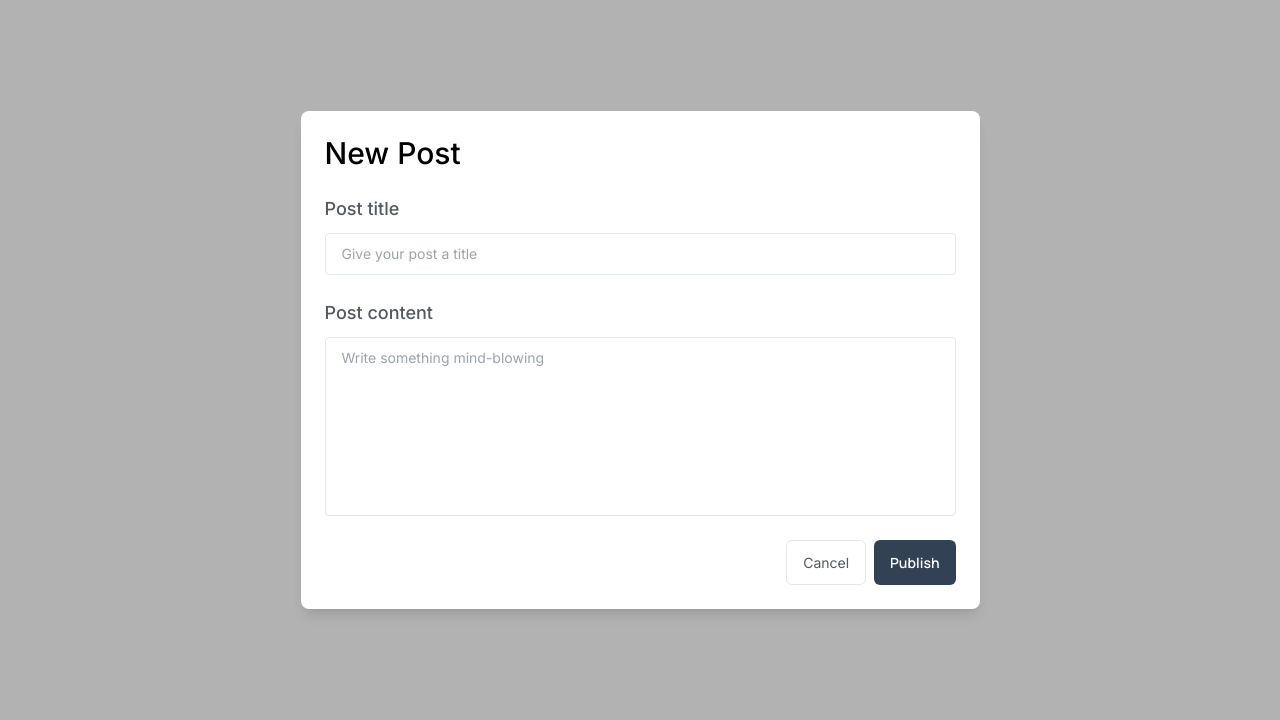
Test: PostFormModal Component › should show validation error for short title
Type "ab" into the field labelled "Post title" at (640,254), box [324,233,956,275]
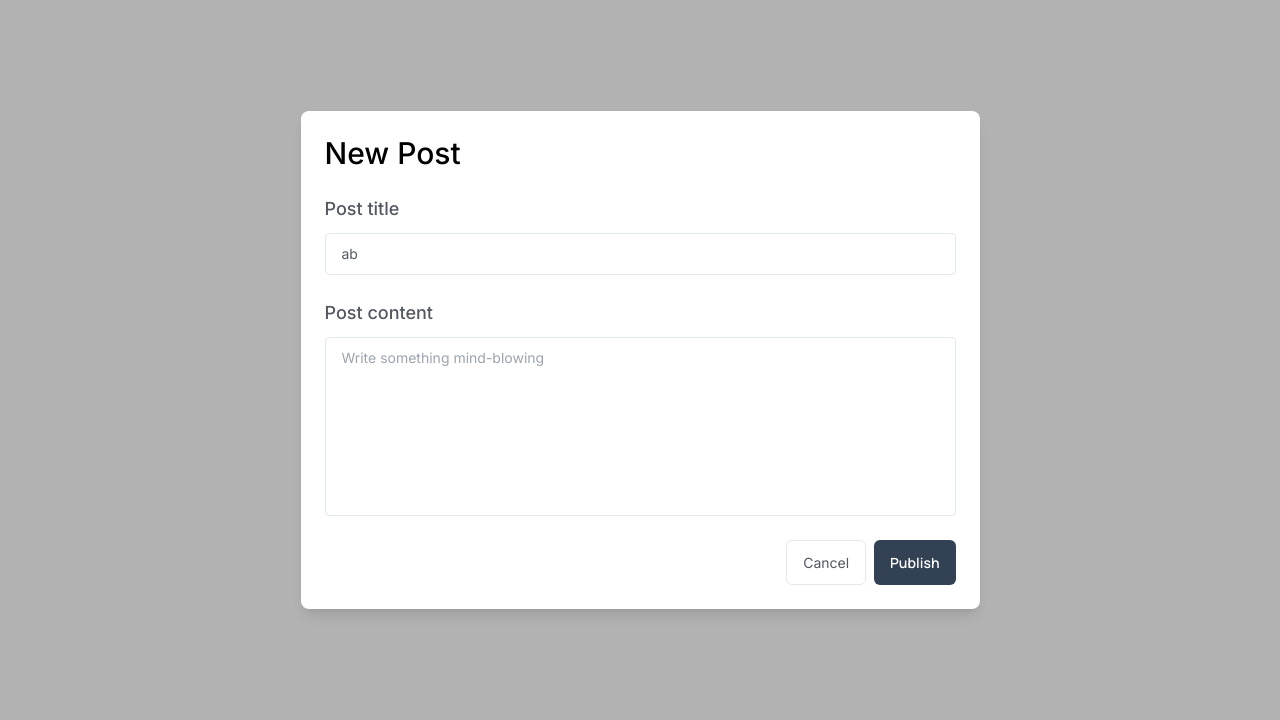
Submit the form, box [324,195,956,585]
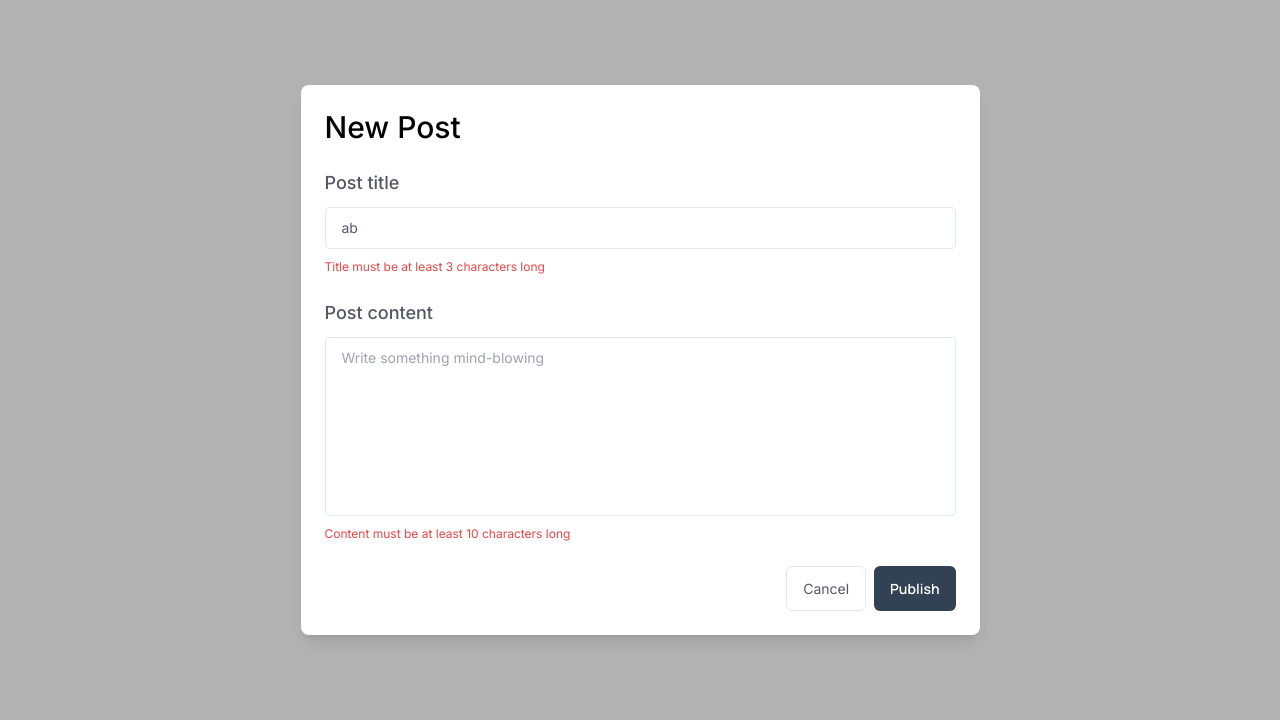
Expected: the text "Title must be at least 3 characters long" is shown, [324,259,545,274]
